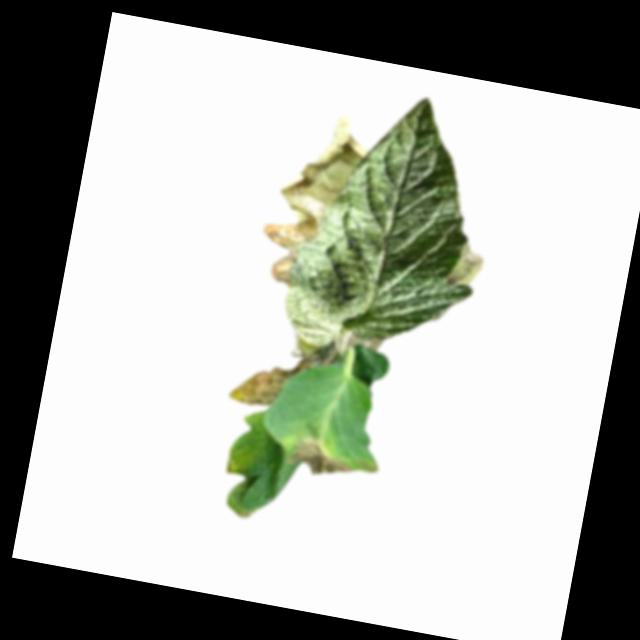Late_blight: (260, 105, 374, 295), (228, 332, 335, 418), (282, 436, 357, 483), (448, 242, 487, 292), (344, 332, 385, 357), (233, 507, 254, 523)
healthy: (279, 79, 505, 372)
